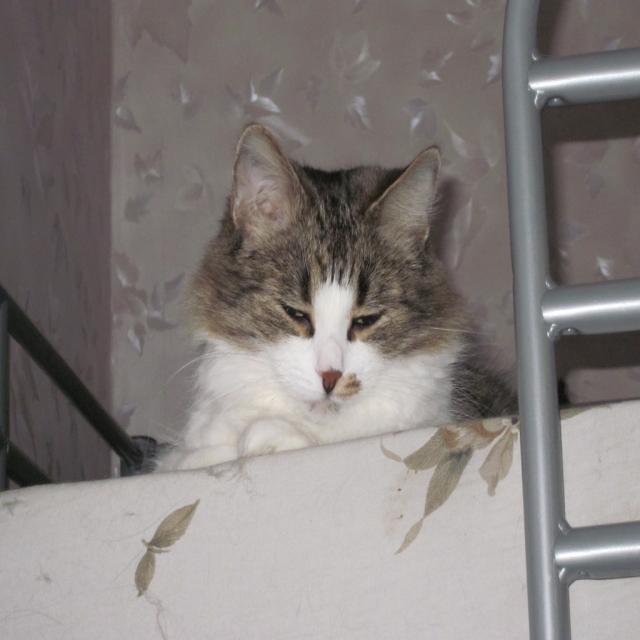Cat: (148, 116, 512, 487)
